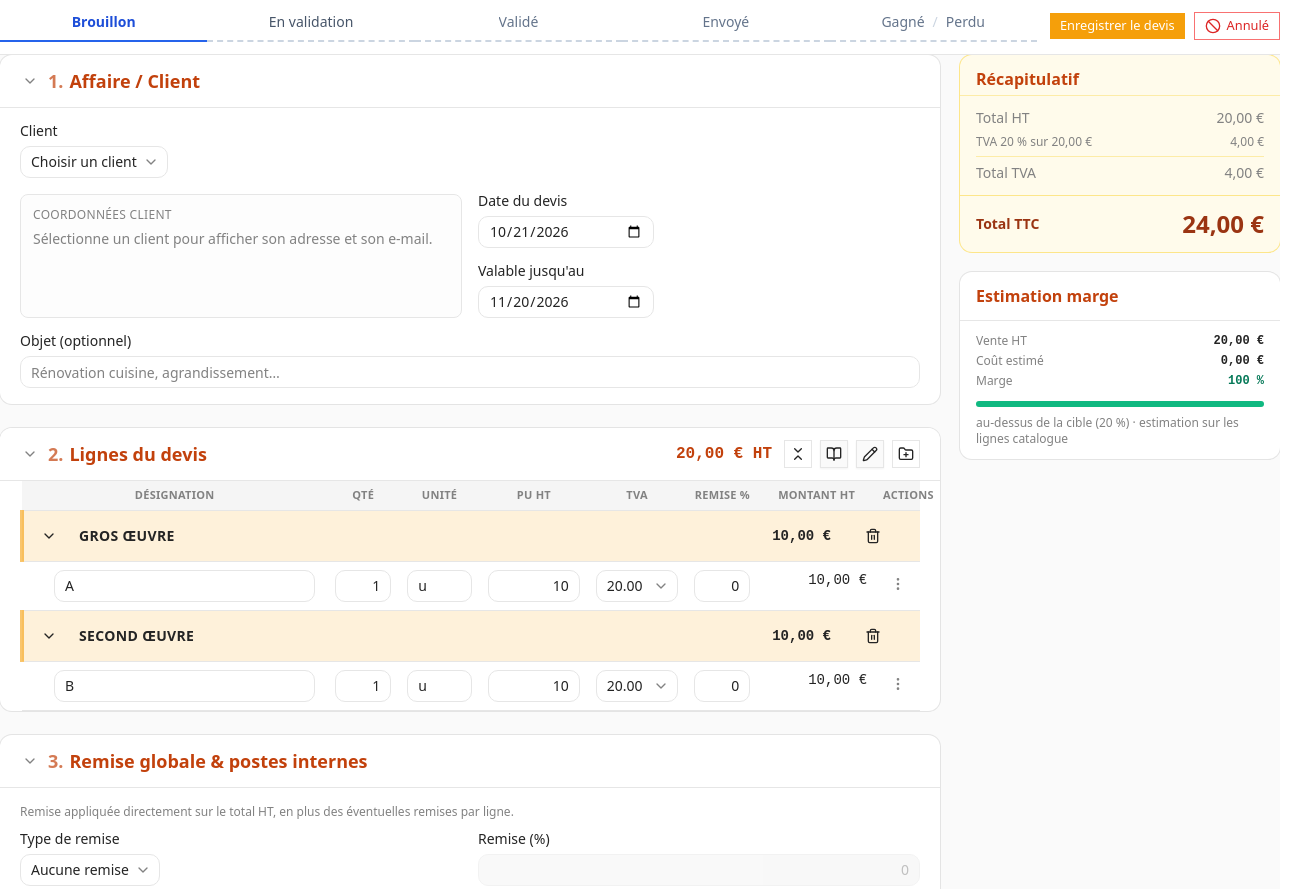
Scenario: DevisEditor — bouton « tout déplier / replier » en état mixte › bascule sur « Tout déplier » dès qu’une seule sous-section est repliée (état mixte)
The image size is (1292, 889).
On replie la PREMIÈRE section uniquement → état mixte.
What coordinates should you click on to do the following:
click the 1st button named "Replier la section"
I would click on:
 (49, 536)
Its box is [37, 524, 61, 548].
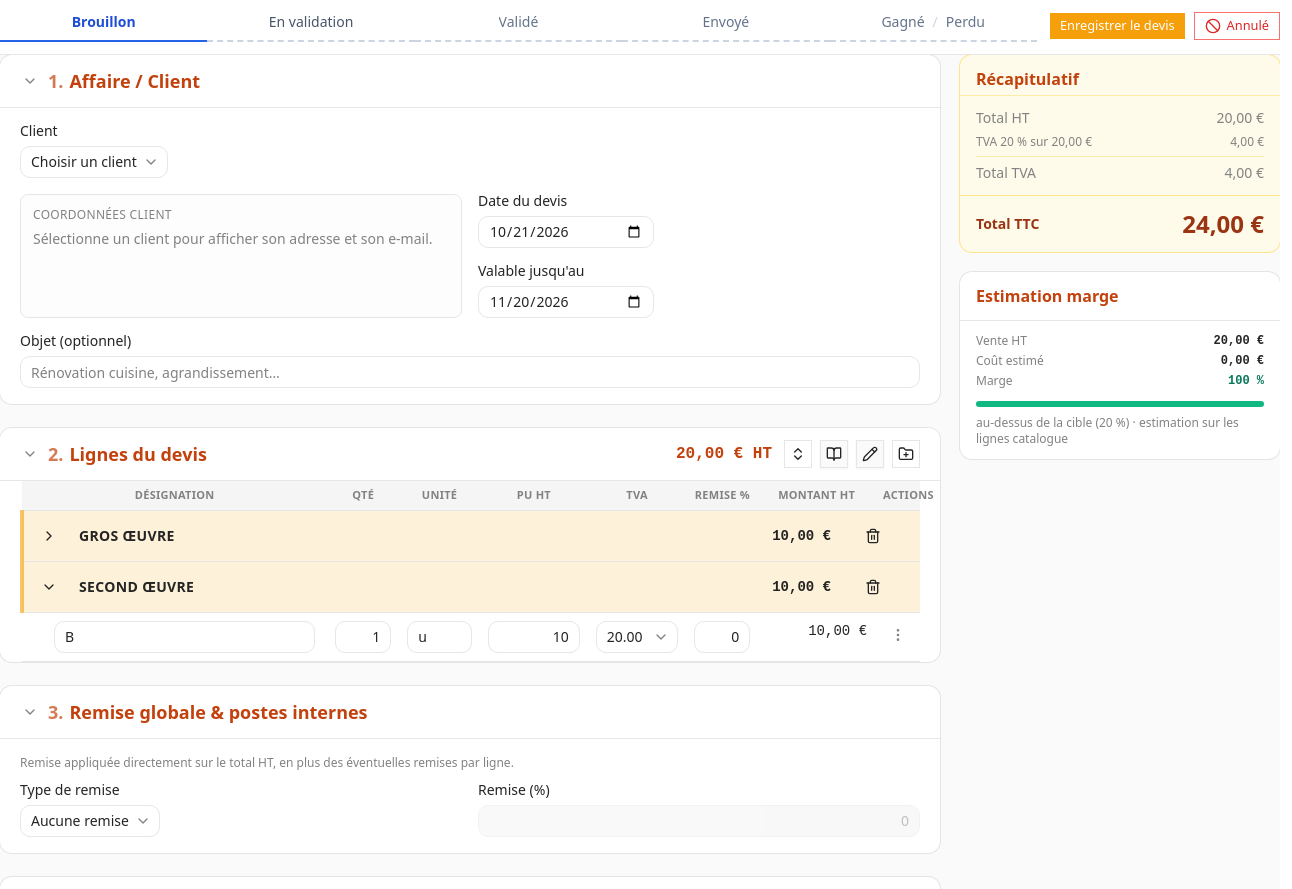
Check: the button named "Déplier toutes les sections" is shown, box [784, 440, 812, 468]
